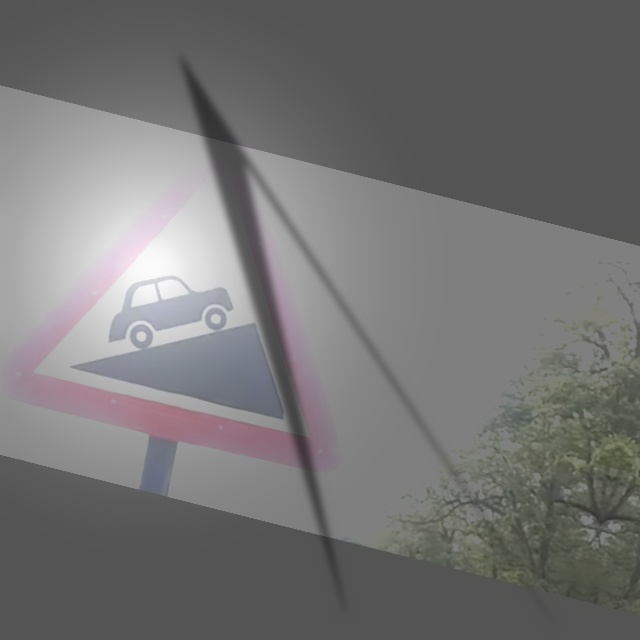Steep_Ascent: (19, 146, 379, 476)
